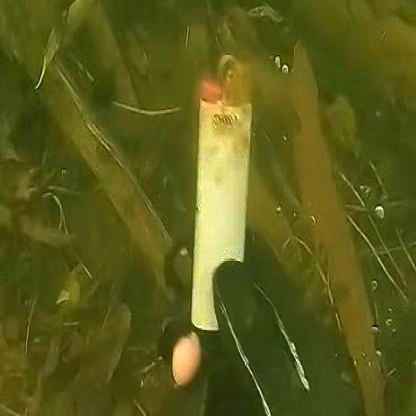misc: (190, 40, 256, 324)
